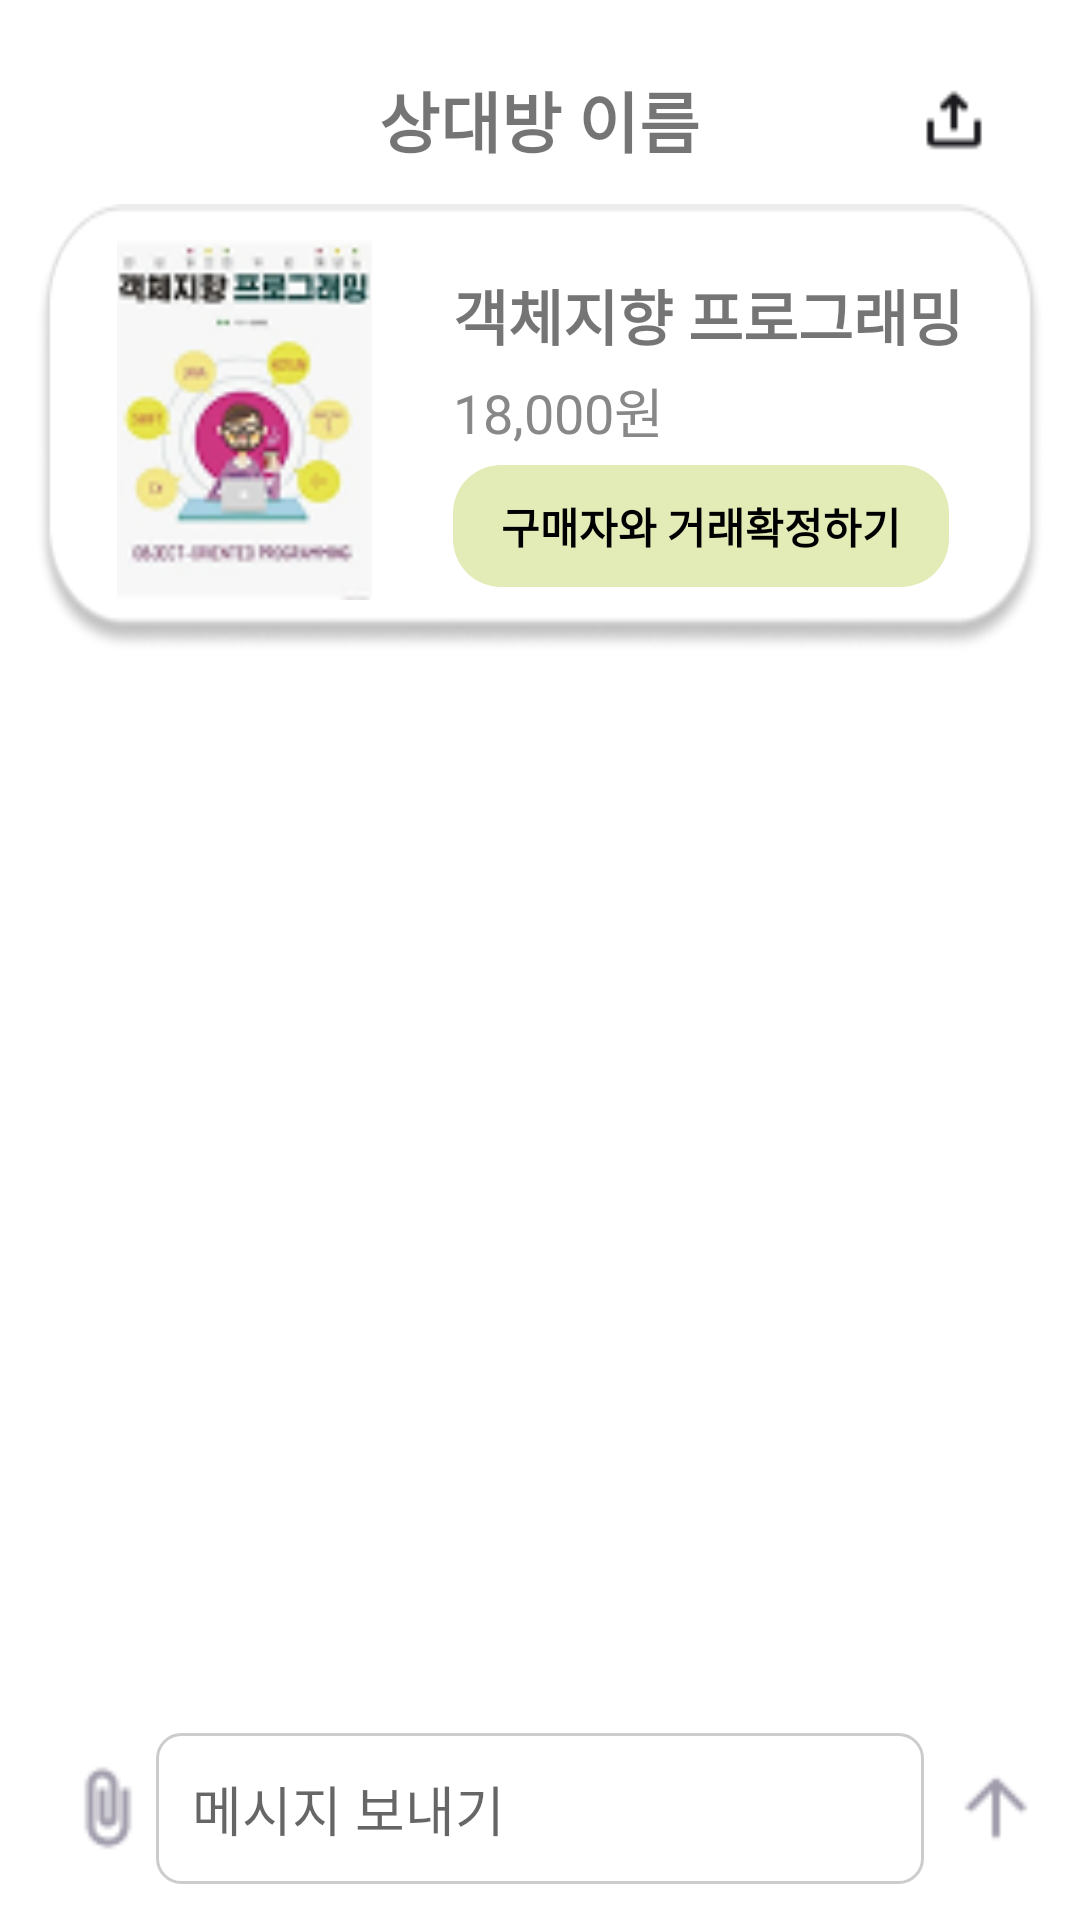

Icon bounding boxes for this 1080×1920 phone screenshot, format box=[x1, y1, x2, y2]:
attach file: box=[85, 1768, 131, 1848]
send: box=[965, 1778, 1027, 1838]
공유: box=[926, 91, 982, 150]
